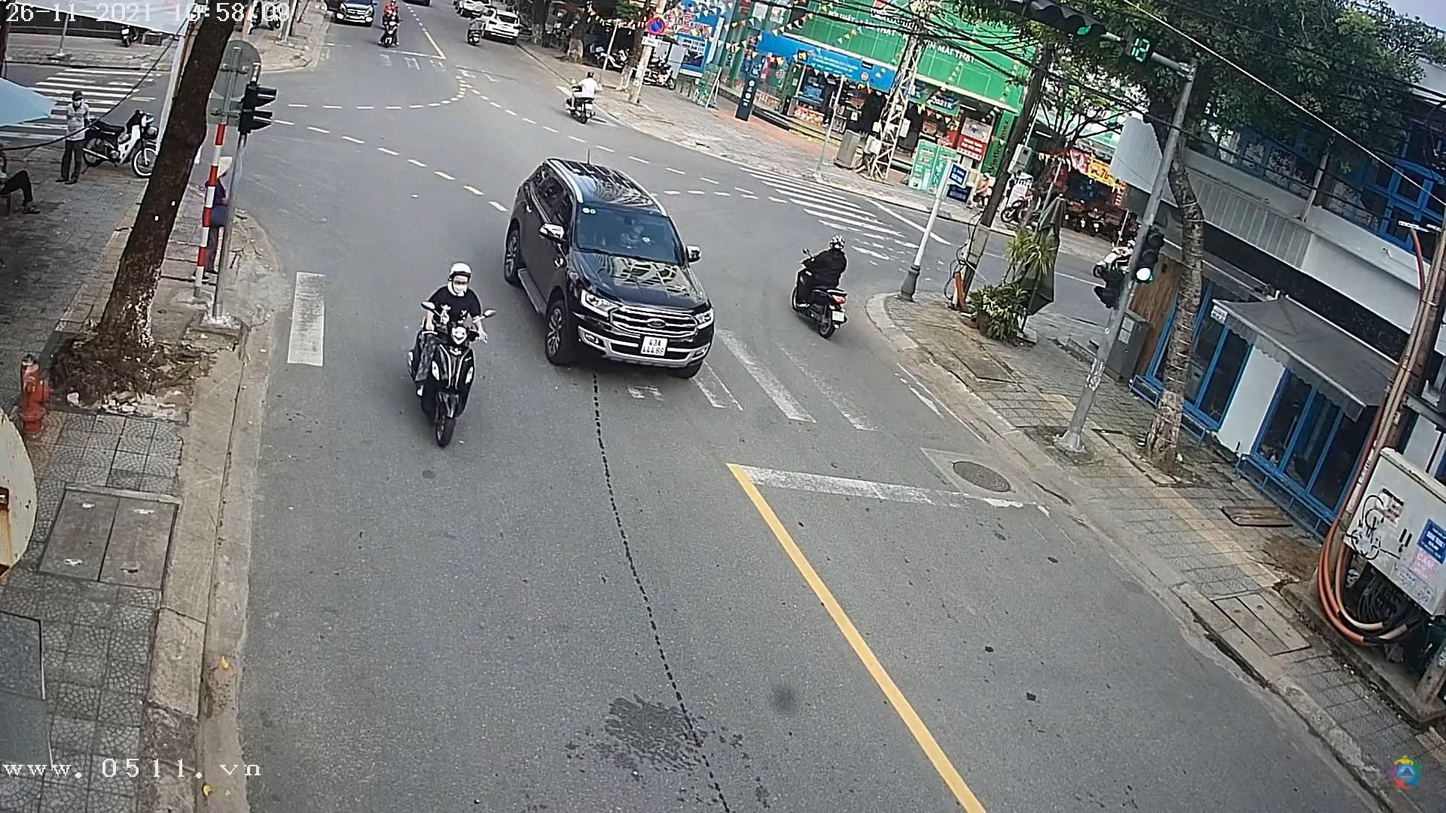car: (503, 159, 721, 385)
motorbike: (404, 302, 491, 449)
